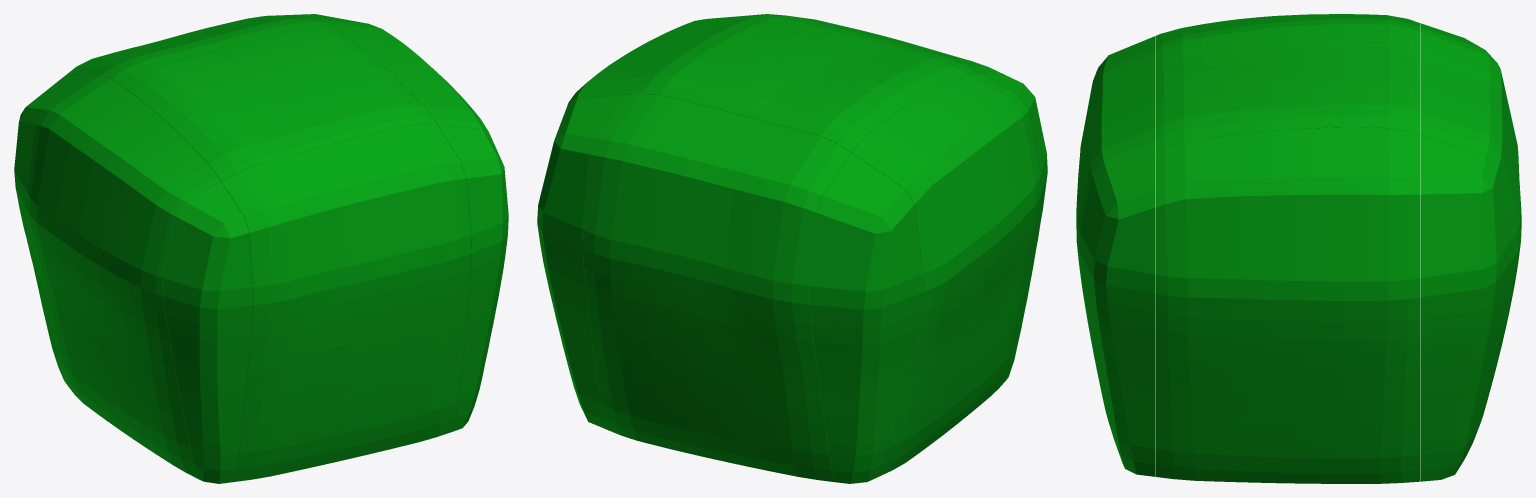
The model's file is 4by10beveledsubdivided.011.fbx.
3 views of the same model, side by side, from view 1: azimuth 30°, elevation 25°; view 2: azimuth 150°, elevation 25°; view 3: azimuth 270°, elevation 25° (orthographic). The views are drawn at different scales.
Visible parts, largest first — view 1: 4by10beveledsubdivided.011; view 2: 4by10beveledsubdivided.011; view 3: 4by10beveledsubdivided.011.
Boxes of the visible parts, bbox=[...] form: 4by10beveledsubdivided.011: bbox=[14, 14, 508, 483]; 4by10beveledsubdivided.011: bbox=[537, 14, 1047, 483]; 4by10beveledsubdivided.011: bbox=[1076, 14, 1521, 483].
Size of the model in its own units: 347 by 287 by 336.
